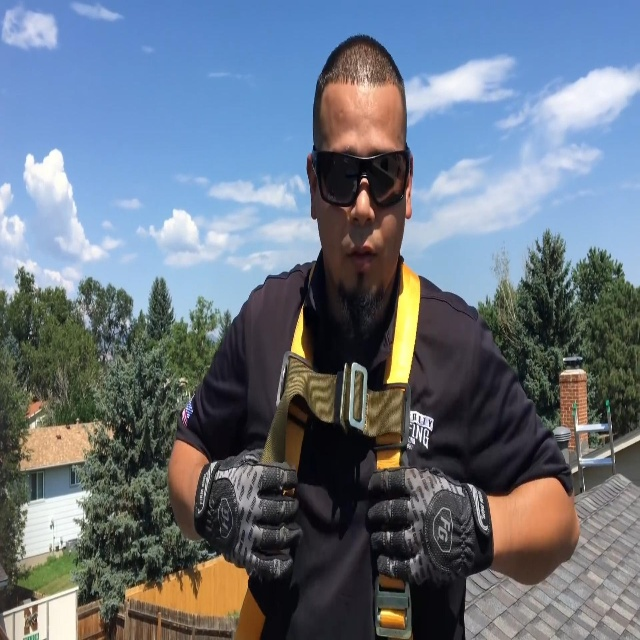Arnes_seguridad: (226, 240, 430, 640)
